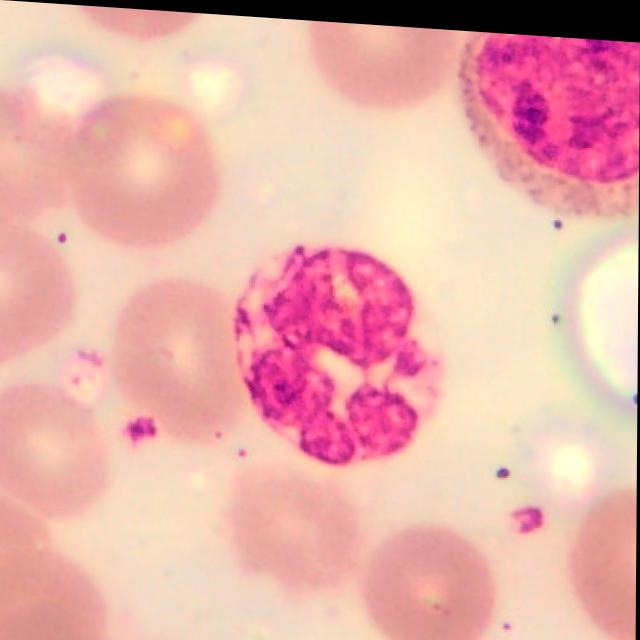Neutrofilo segmentado: (234, 239, 447, 460)
